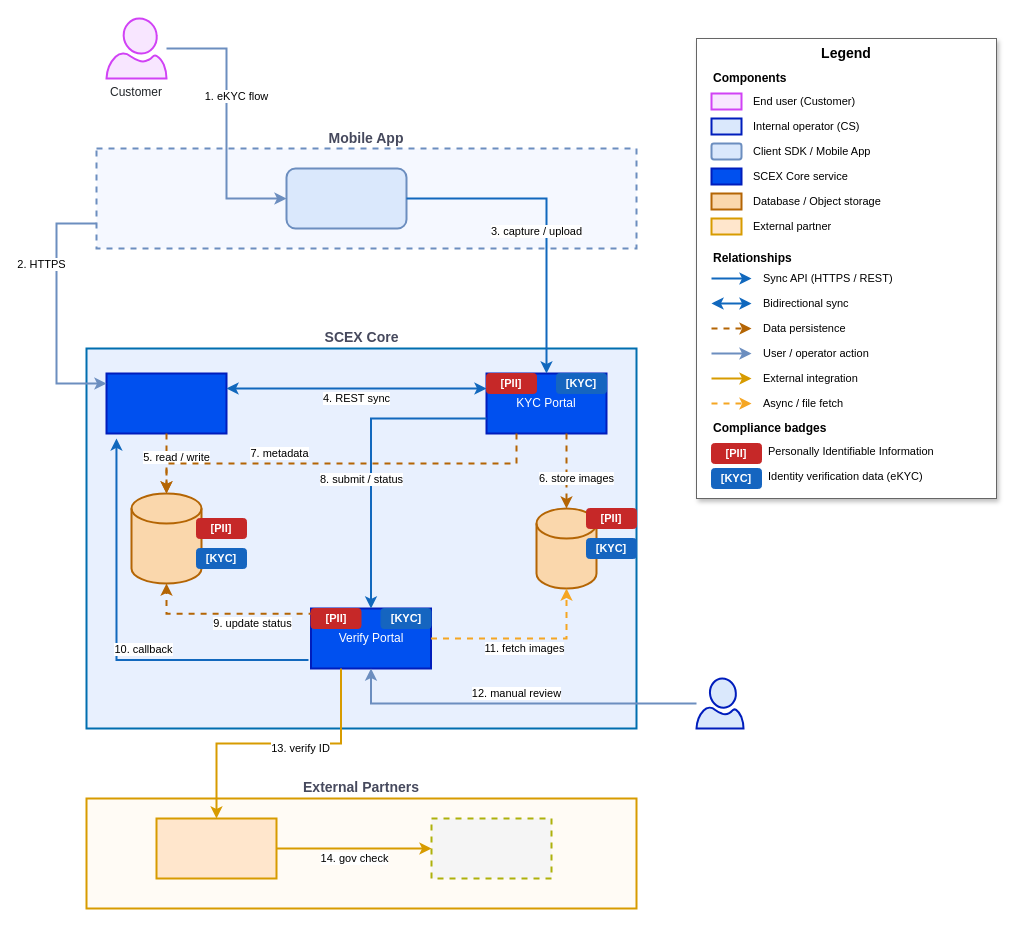
Some shapes in this 1020 by 926 pixel diagram are drawn without their labels. The centre of each missing label's shape, as x and y in pixels:
"BE Service" belongs at (x=166, y=403).
"C06" belongs at (x=491, y=848).
"Customer Service" belongs at (x=719, y=703).
"FIS" belongs at (x=216, y=848).
"Image Storage" belongs at (x=566, y=548).
"KYC SDK" belongs at (x=346, y=198).
"PostgreSQL (DB Per Service)" belongs at (x=166, y=538).
